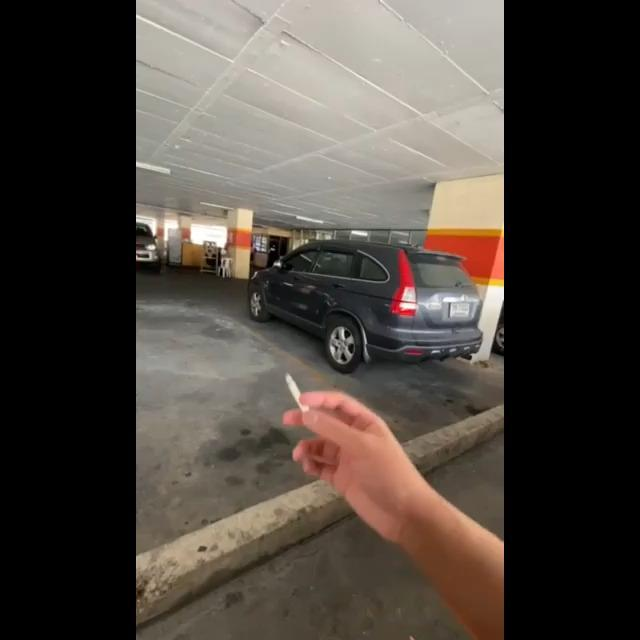rokok: (278, 369, 316, 418)
